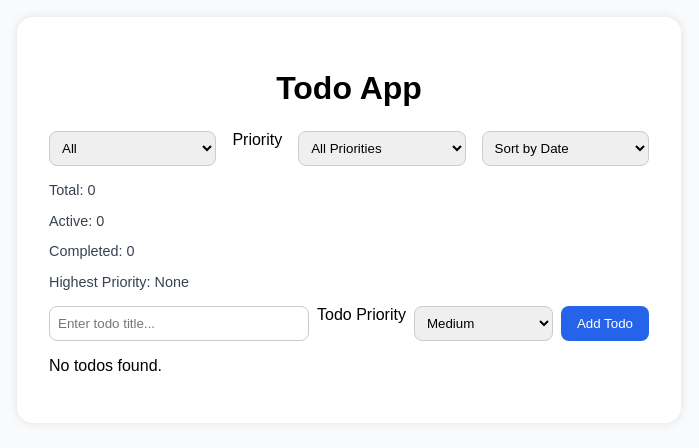
Test case: adds a new todo item
In the field with placeholder "Enter todo title...": [179, 323] box left=49, top=306, right=309, bottom=341, type "Test Todo"
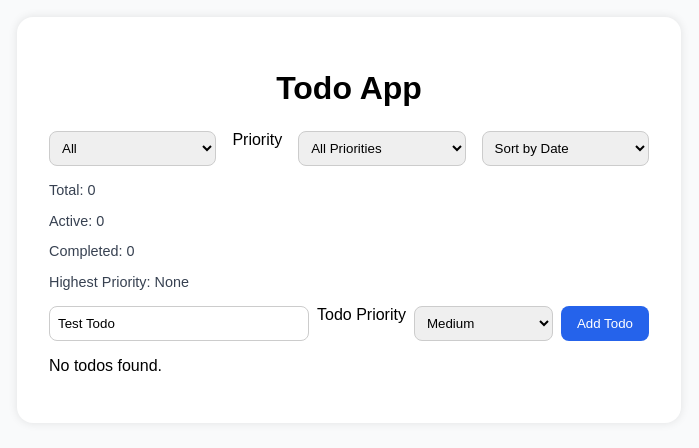
Select "High" in the dropdown labelled "Todo Priority": [483, 323] box left=414, top=306, right=553, bottom=341
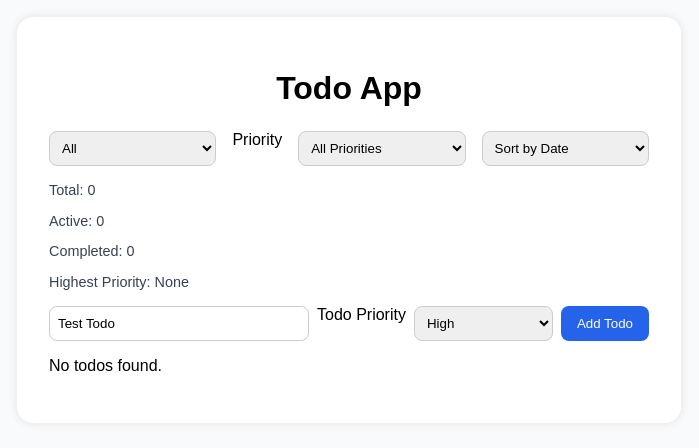
Click the button "Add Todo": [605, 323] box left=561, top=306, right=649, bottom=341
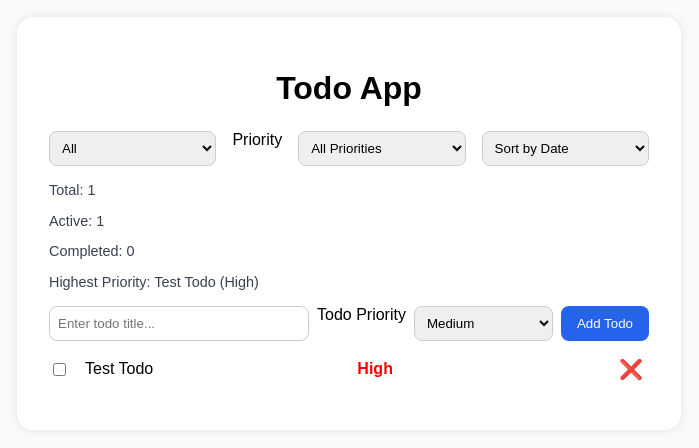
Result: the text "Test Todo" is shown at left=85, top=360, right=153, bottom=377
